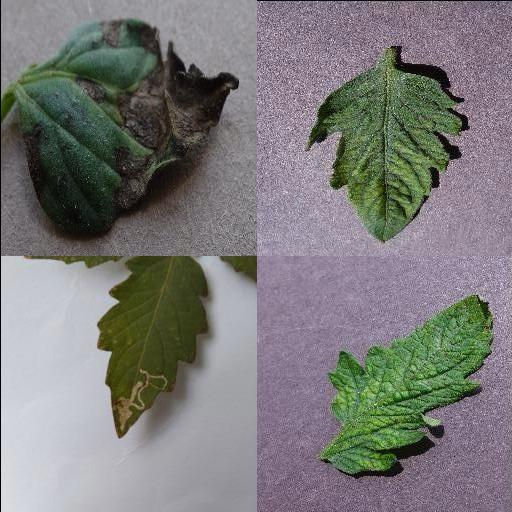Early Blight: (11, 18, 241, 240)
Leaf Miner: (94, 257, 208, 441)
Mosaic Virus: (329, 293, 493, 473), (304, 62, 464, 244)
